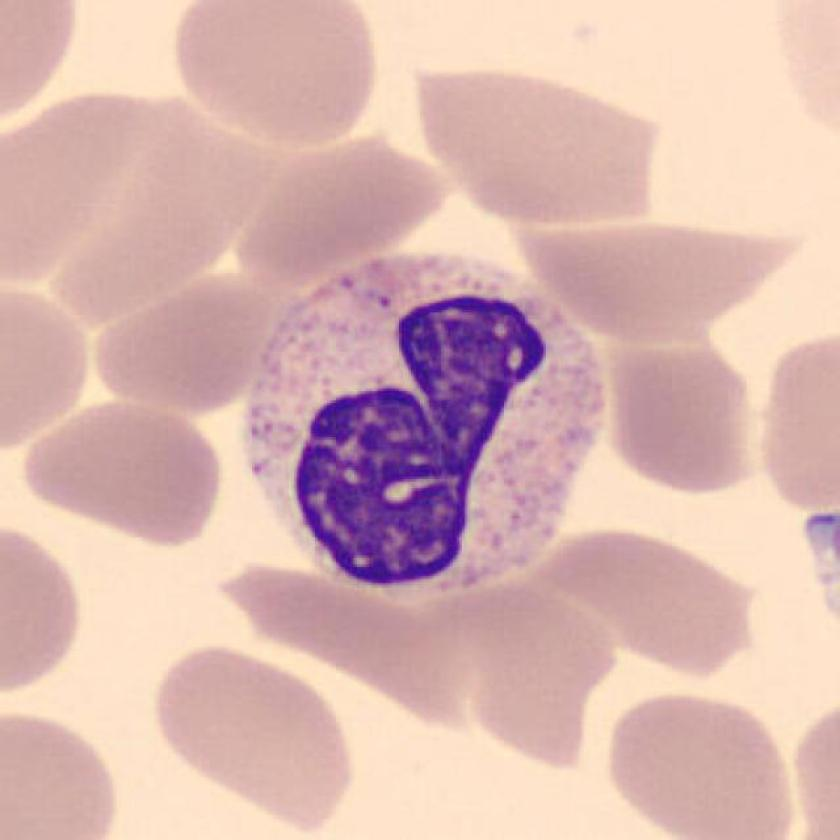neutrophil: (245, 251, 605, 599)
